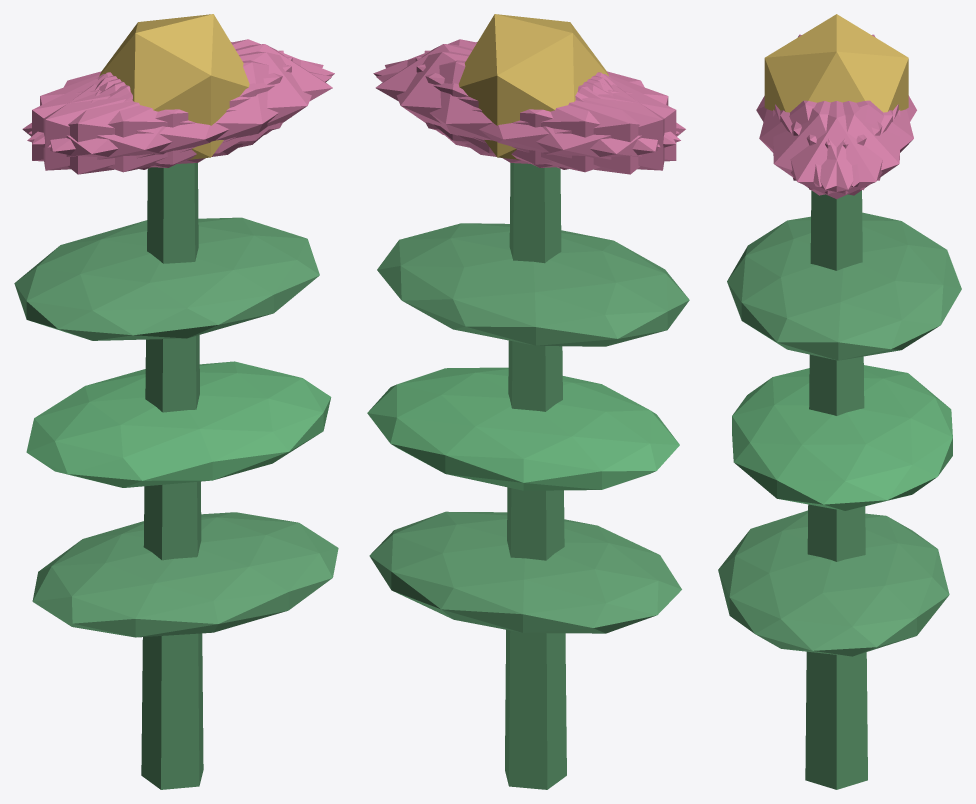
The model's file is ricinus-communis.glb.
3 renders of one model, left to right at view 1: azimuth 30°, elevation 25°; view 2: azimuth 150°, elevation 25°; view 3: azimuth 270°, elevation 25°, orthographic.
Visible parts, largest first — view 1: leaf0, leaf2, leaf1, stem, center, petal1, petal6, petal2, petal5, petal7, petal0, petal4 (+2 smaller); view 2: leaf2, leaf1, leaf0, stem, center, petal8, petal3, petal7, petal4, petal2, petal0, petal5 (+2 smaller); view 3: leaf2, leaf0, leaf1, stem, center, petal0, petal5, petal4, petal1, petal8.
Part boxes in pixels (x1,y1,x2,y2): leaf0: [32, 512, 338, 637]; leaf2: [14, 217, 319, 340]; leaf1: [26, 361, 331, 487]; stem: [141, 163, 203, 789]; center: [99, 14, 249, 159]; petal1: [27, 60, 331, 172]; petal6: [22, 74, 243, 174]; petal2: [43, 50, 283, 170]; petal5: [48, 51, 323, 164]; petal7: [32, 57, 292, 167]; petal0: [99, 44, 332, 153]; petal4: [28, 39, 334, 144]; leaf2: [377, 223, 689, 346]; leaf1: [367, 367, 679, 490]; leaf0: [369, 511, 681, 633]; stem: [505, 163, 566, 789]; center: [458, 14, 608, 159]; petal8: [376, 60, 680, 172]; petal3: [465, 74, 685, 174]; petal7: [424, 50, 664, 170]; petal4: [385, 51, 660, 164]; petal2: [415, 57, 676, 167]; petal0: [375, 44, 609, 153]; petal5: [373, 39, 679, 144]; leaf2: [727, 212, 961, 360]; leaf0: [718, 510, 949, 656]; leaf1: [732, 365, 952, 510]; stem: [805, 190, 867, 789]; center: [764, 14, 908, 112]; petal0: [775, 101, 898, 199]; petal5: [773, 101, 892, 195]; petal4: [780, 101, 900, 195]; petal1: [759, 100, 882, 186]; petal8: [791, 100, 913, 186].
Bounding box in the file's own units: 0.1452 × 0.3484 × 0.1036.
